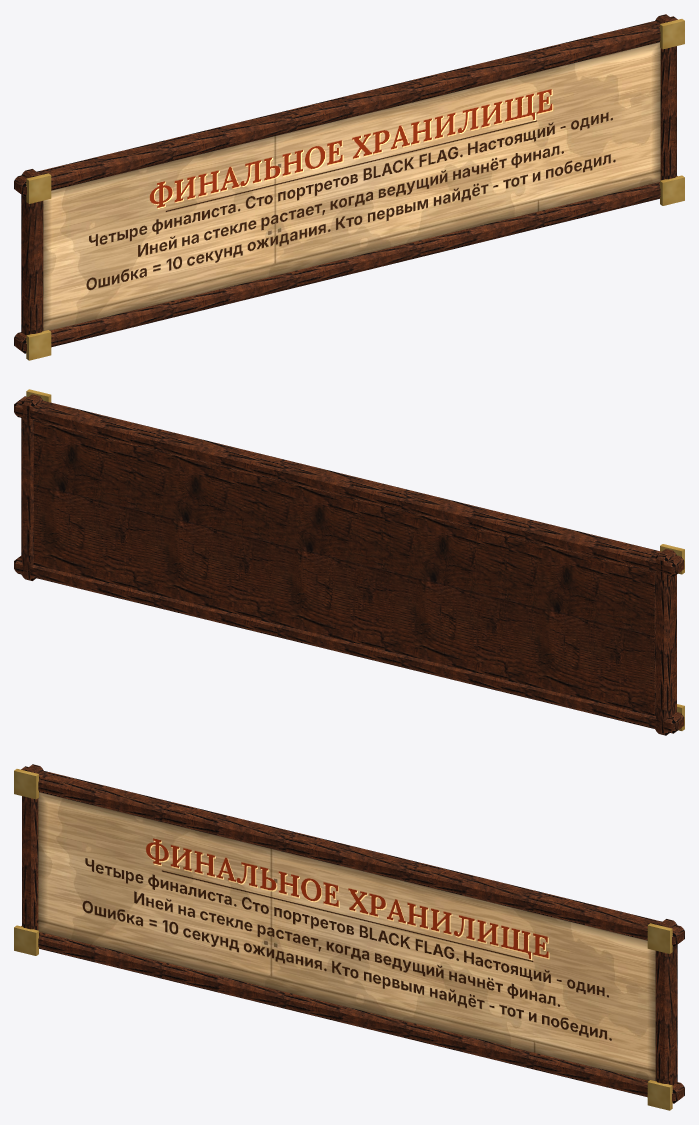
Rendered from sg_ru_vault_rules.glb.
3 views of the same model, one above another, from view 1: azimuth 30°, elevation 25°; view 2: azimuth 150°, elevation 25°; view 3: azimuth 330°, elevation 25° (orthographic).
Visible parts, largest first — view 1: spire; view 2: spire; view 3: spire.
Part boxes in pixels (bbox=[...]): spire: bbox=[14, 14, 684, 360]; spire: bbox=[14, 389, 684, 735]; spire: bbox=[14, 764, 684, 1110].
Size of the model in its own units: 5.36 by 1.39 by 0.19.
Materials: 3 (3 with a texture image).
